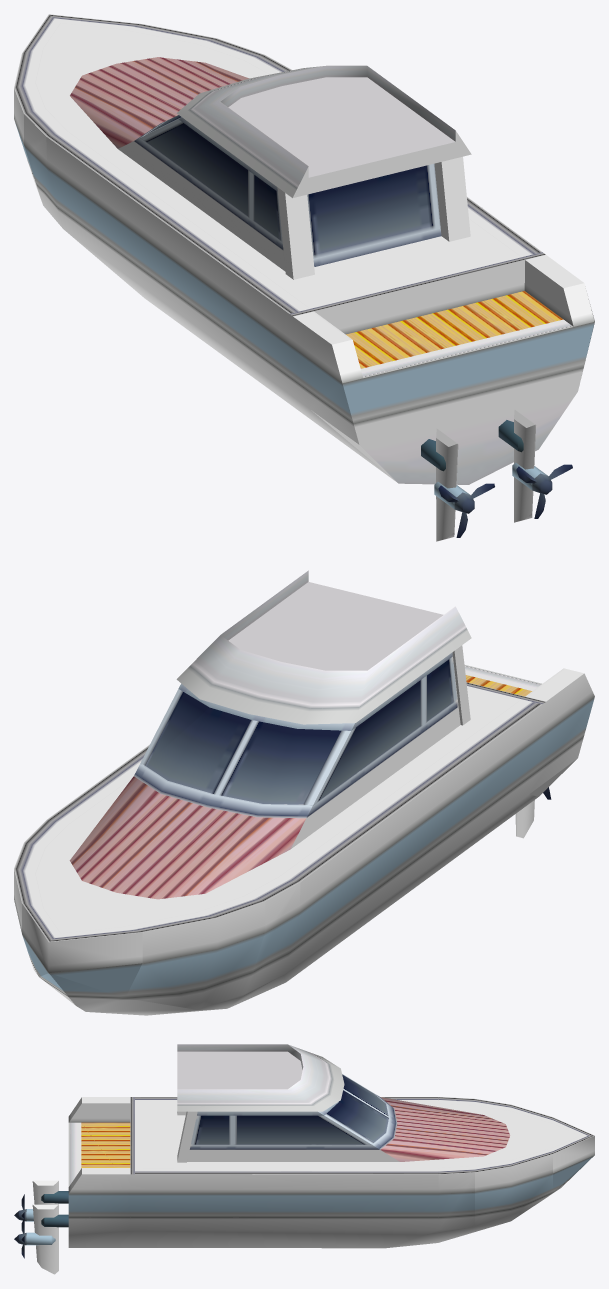
File: riccoboatl.dae
3 renders of one model, top to bottom at view 1: azimuth 30°, elevation 25°; view 2: azimuth 150°, elevation 25°; view 3: azimuth 270°, elevation 25°, orthographic. The views are drawn at different scales.
Parts seen in each view (by area): view 1: n0b0; view 2: n0b0; view 3: n0b0.
Part boxes in pixels (x1,y1,x2,y2): n0b0: [14, 14, 594, 541]; n0b0: [14, 570, 594, 1015]; n0b0: [14, 1044, 594, 1274].
Size of the model in its own units: 603 by 705 by 1904.
Materials: 1 (1 with a texture image).
